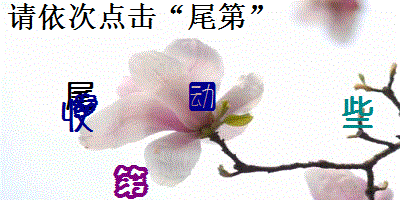text: (60, 98, 96, 135), (113, 163, 149, 199), (340, 95, 376, 131), (65, 80, 97, 113), (187, 80, 218, 112), (73, 93, 100, 116)
